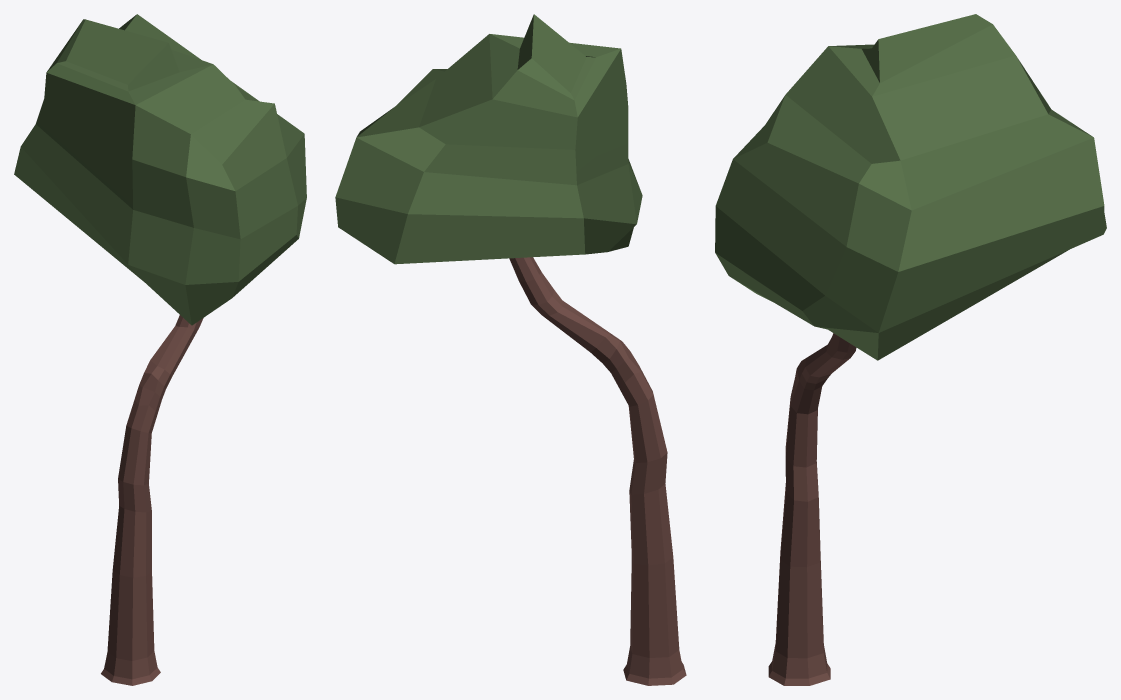
Rendered from crop-orange-3.glb.
The picture shows the model from 3 angles, left to right: view 1: azimuth 30°, elevation 25°; view 2: azimuth 150°, elevation 25°; view 3: azimuth 270°, elevation 25°; orthographic projection. The views are drawn at different scales.
Visible parts, largest first — view 1: Cube_059; view 2: Cube_059; view 3: Cube_059.
Part boxes in pixels (bbox=[...]): Cube_059: bbox=[14, 14, 306, 685]; Cube_059: bbox=[335, 14, 686, 685]; Cube_059: bbox=[715, 14, 1106, 685].
Bounding box in the file's own units: 0.9217 × 2.12 × 1.12.
